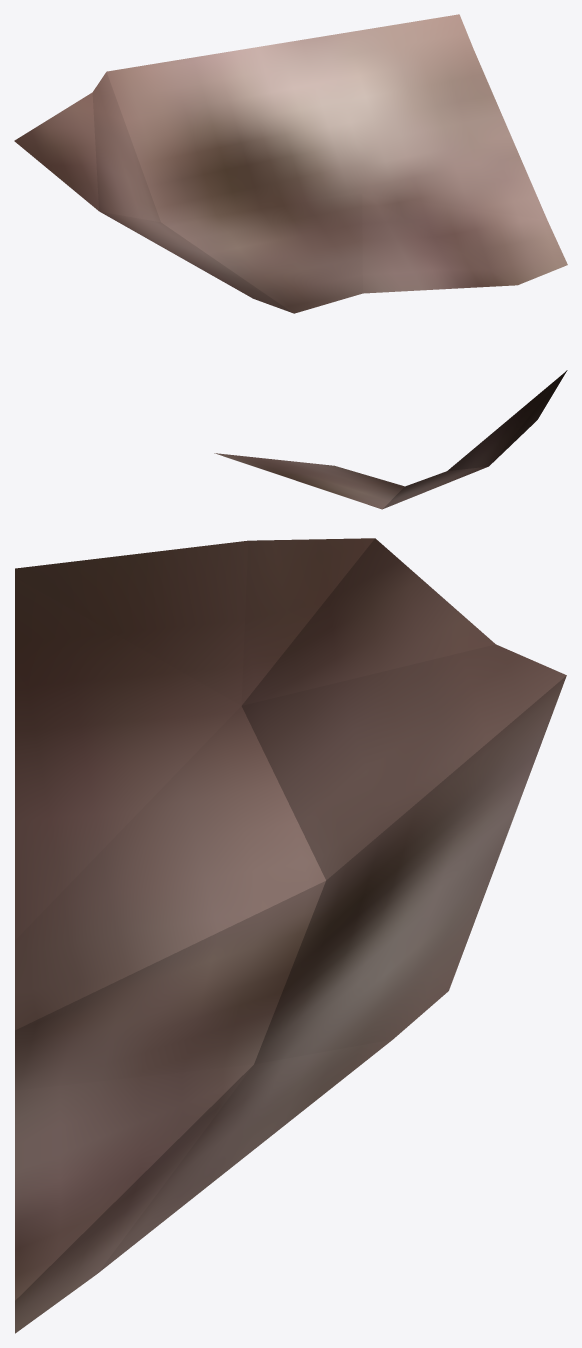
3 renders of one model, top to bottom at view 1: azimuth 30°, elevation 25°; view 2: azimuth 150°, elevation 25°; view 3: azimuth 270°, elevation 25°, orthographic. The views are drawn at different scales.
Bounding box in the file's own units: 0.0736 × 0.0272 × 0.0379.
Materials: 1 (1 with a texture image).
